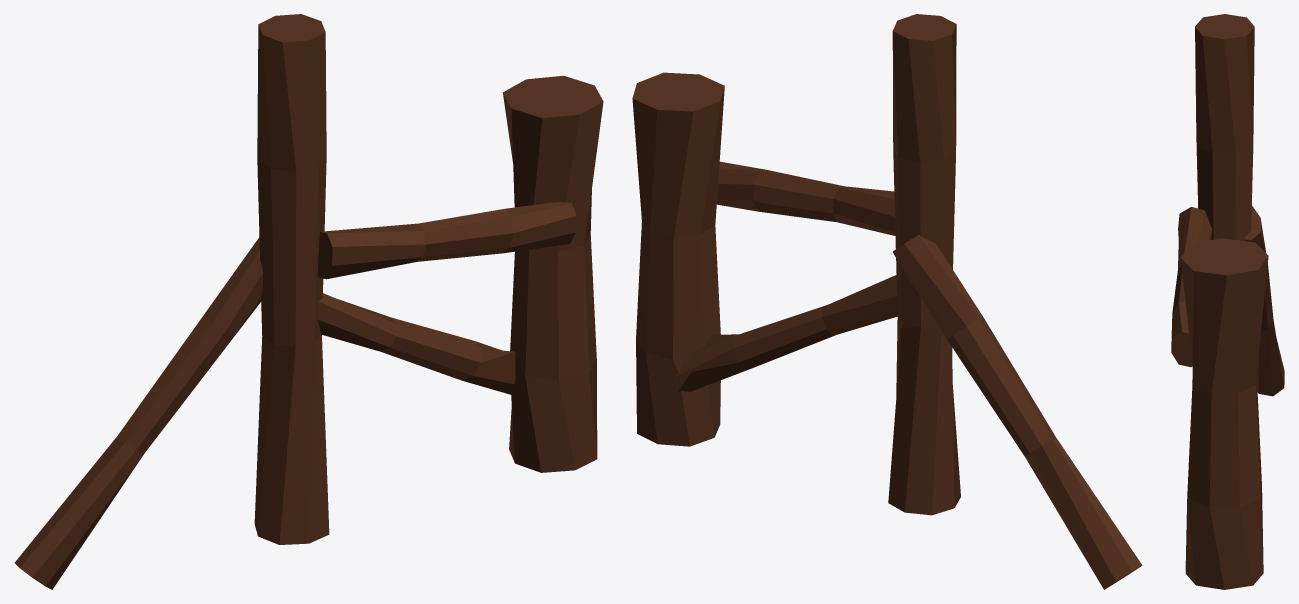
File: Fence_2.fbx
3 renders of one model, left to right at view 1: azimuth 30°, elevation 25°; view 2: azimuth 150°, elevation 25°; view 3: azimuth 270°, elevation 25°, orthographic. The views are drawn at different scales.
Visible parts, largest first — view 1: Fence_2; view 2: Fence_2; view 3: Fence_2.
Part boxes in pixels (left/top/right/bottom): Fence_2: left=14, top=14, right=603, bottom=589; Fence_2: left=632, top=14, right=1142, bottom=589; Fence_2: left=1171, top=14, right=1284, bottom=589.
Size of the model in its own units: 658 by 131 by 592.
